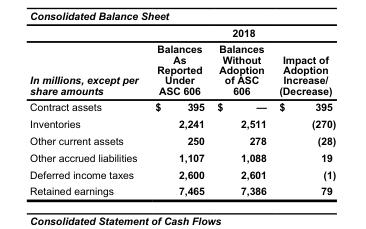table: (29, 28, 335, 197)
table column: (29, 28, 146, 197), (146, 28, 210, 197), (272, 28, 335, 197), (210, 28, 272, 197)
table column header: (29, 28, 335, 100)
table row: (29, 42, 335, 100), (29, 100, 335, 117), (29, 133, 335, 150), (29, 150, 335, 167), (29, 167, 335, 184), (29, 117, 335, 133), (29, 28, 335, 42), (29, 184, 335, 197)
table spanning cell: (29, 28, 146, 100), (146, 28, 335, 42)
